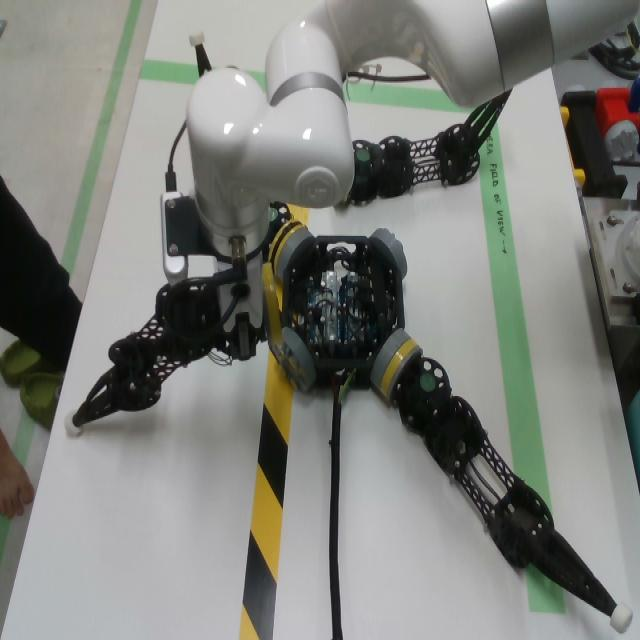body: (284, 236, 406, 391)
body_connector: (271, 327, 317, 395), (370, 329, 411, 389), (276, 228, 315, 280), (369, 228, 407, 280)
gripper: (219, 248, 263, 361), (215, 257, 231, 272)
leg: (381, 337, 635, 635), (62, 283, 230, 437), (337, 89, 512, 209), (256, 263, 282, 344), (262, 201, 292, 264), (189, 29, 213, 77)
leg_connector: (380, 339, 423, 400), (268, 220, 306, 273), (262, 263, 283, 345)
leg_marker: (420, 373, 435, 392), (357, 149, 370, 160)
